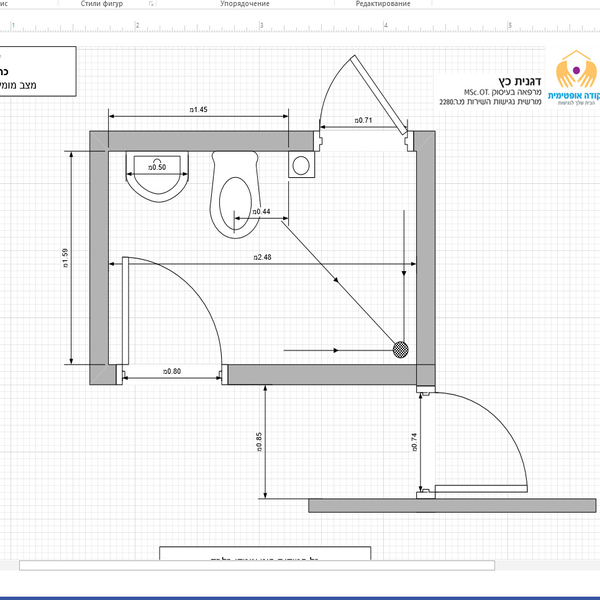door: (115, 251, 227, 387), (418, 392, 537, 496)
room: (88, 130, 436, 394)
wall: (416, 132, 438, 386), (90, 151, 111, 386), (92, 131, 315, 151), (307, 498, 598, 513), (225, 364, 416, 384)
